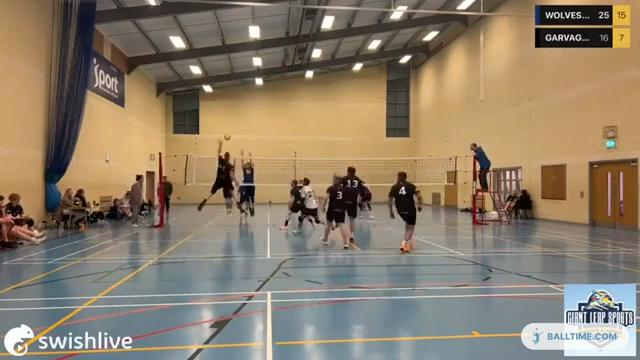Attack: (196, 134, 240, 216)
Block: (236, 147, 260, 222)
Player: (388, 172, 421, 251), (322, 175, 349, 248), (342, 167, 362, 242), (280, 180, 301, 229), (299, 177, 320, 226), (359, 184, 373, 219)
ball: (222, 131, 233, 143)
